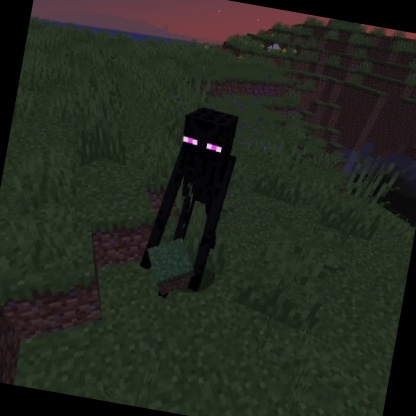enderman: (132, 99, 248, 309)
